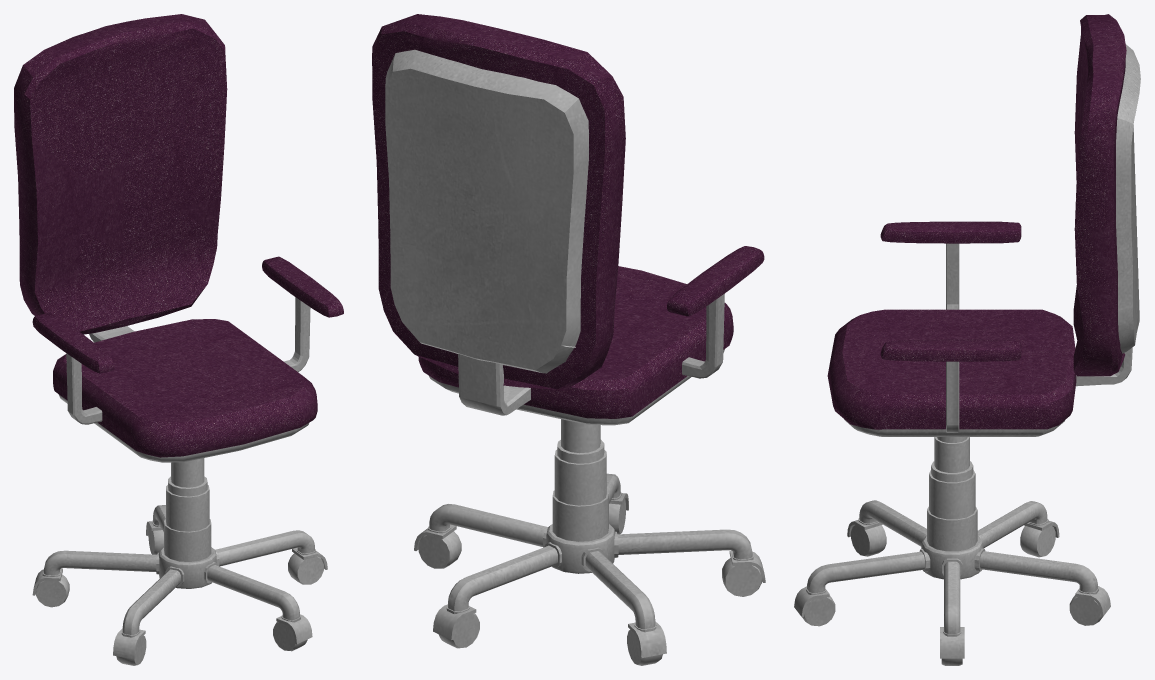
File: Office chair.fbx
3 renders of one model, left to right at view 1: azimuth 30°, elevation 25°; view 2: azimuth 150°, elevation 25°; view 3: azimuth 270°, elevation 25°, orthographic. The views are drawn at different scales.
Parts seen in each view (by area): view 1: Cylinder; view 2: Cylinder; view 3: Cylinder.
Part boxes in pixels (x1=…): Cylinder: x1=14, y1=14, x2=343, y2=665; Cylinder: x1=372, y1=14, x2=765, y2=665; Cylinder: x1=794, y1=14, x2=1140, y2=665.
Size of the model in its own units: 584 by 1137 by 640.
Materials: 2 (2 with a texture image).
